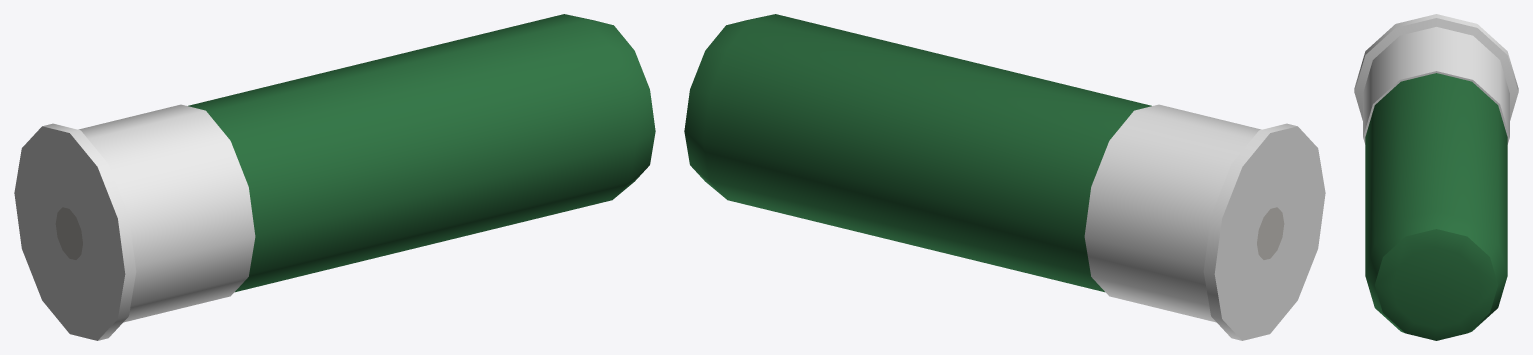
Rendered from Shotgun_RoundGreen.fbx.
3 views of the same model, side by side, from view 1: azimuth 30°, elevation 25°; view 2: azimuth 150°, elevation 25°; view 3: azimuth 270°, elevation 25° (orthographic). The views are drawn at different scales.
Visible parts, largest first — view 1: Shotgun_RoundGreen; view 2: Shotgun_RoundGreen; view 3: Shotgun_RoundGreen.
Boxes of the visible parts, box(x1,y1,x2,y2) form: Shotgun_RoundGreen: box(14, 14, 655, 340); Shotgun_RoundGreen: box(684, 14, 1325, 340); Shotgun_RoundGreen: box(1354, 14, 1518, 340).
Size of the model in its own units: 0.065 by 0.0226 by 0.0226.
